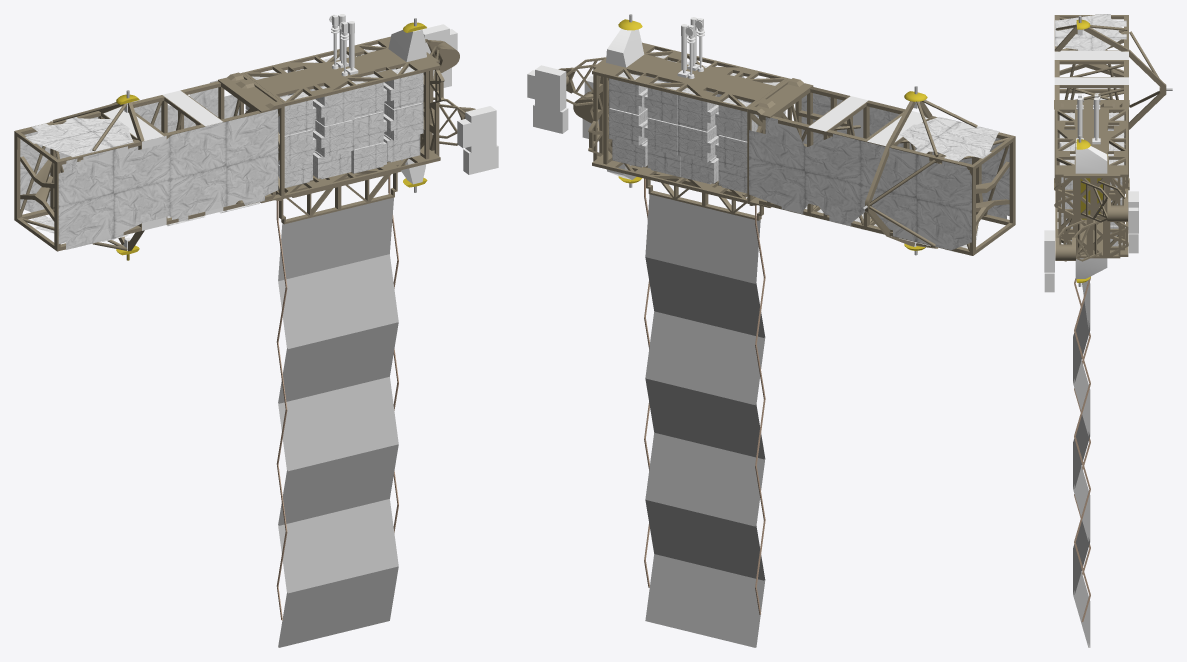
3 renders of one model, left to right at view 1: azimuth 30°, elevation 25°; view 2: azimuth 150°, elevation 25°; view 3: azimuth 270°, elevation 25°, orthographic. The views are drawn at different scales.
Parts seen in each view (by area): view 1: p6; view 2: p6; view 3: p6.
Part boxes in pixels (box(x1,y1,x2,y2)): p6: box(14, 14, 498, 647); p6: box(527, 14, 1015, 647); p6: box(1044, 14, 1172, 647).
Bounding box in the file's own units: 13.61 × 18 × 3.94.
7 materials, 2 textured.
